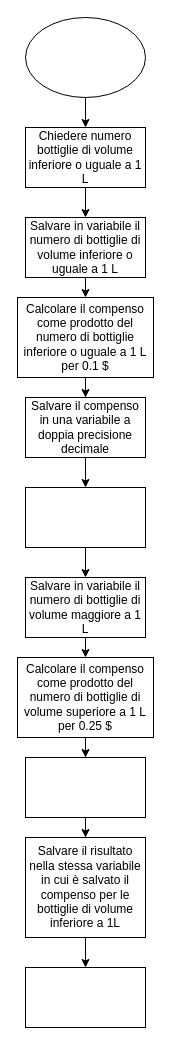
This 171x1045 diagram has some shape labels left out. The centre of each missing label's shape, as x and y in pixels:
Chiedere numero bottiglie di volume maggiore a 1 L: point 85,517
Sommare il risultato al compenso per le bottiglie di volume inferiore a 1 L: point 85,787
Stampare a video il compenso totale in dollari: point 85,997
START: point 85,57
